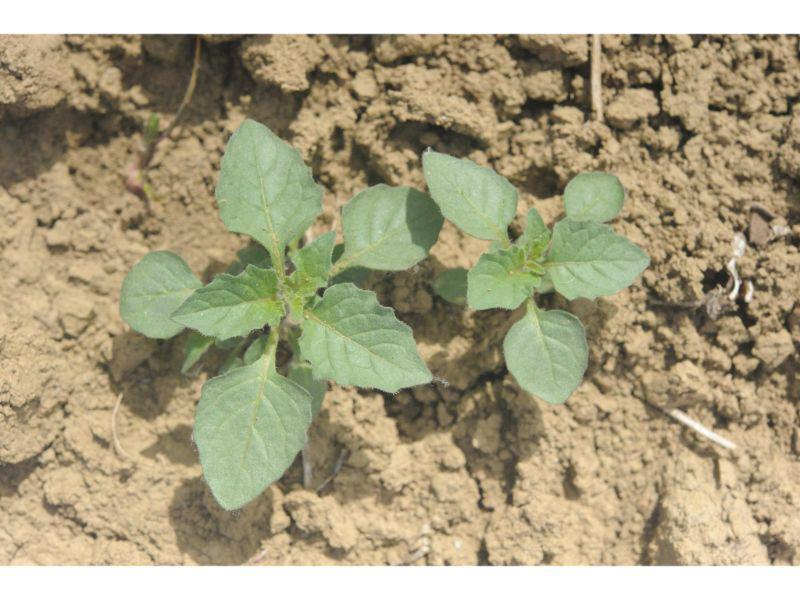nightshade: (119, 117, 441, 507), (423, 148, 649, 403)
